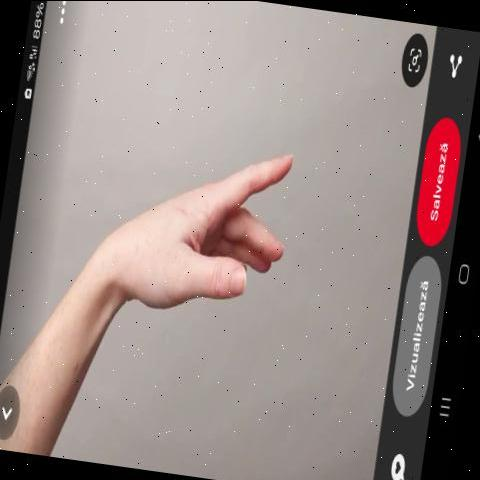Hands: (59, 106, 343, 350)
